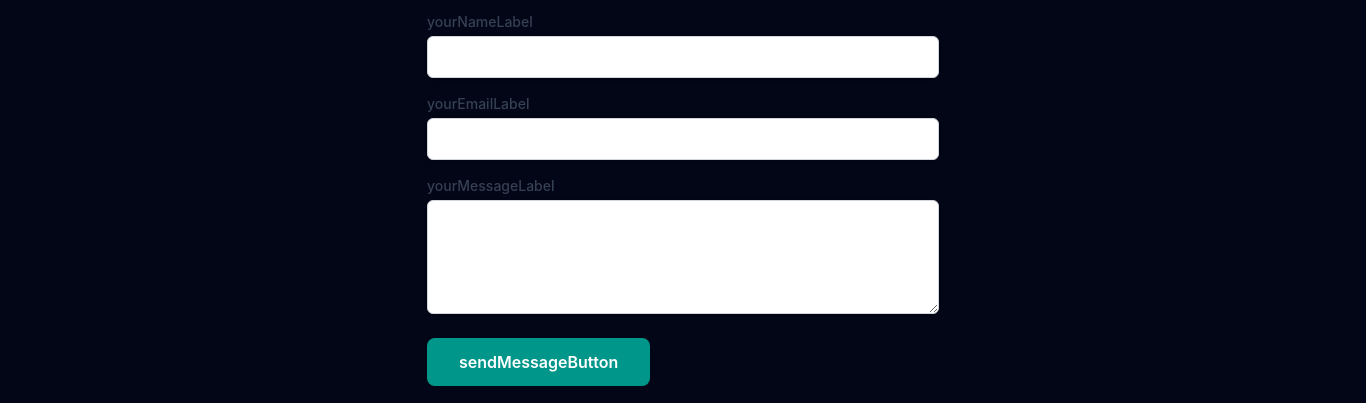
Scenario: ContactForm › handles submission
In the field labelled "yourNameLabel": (683, 57) top-left (427, 36), bottom-right (939, 78), type "Test User"
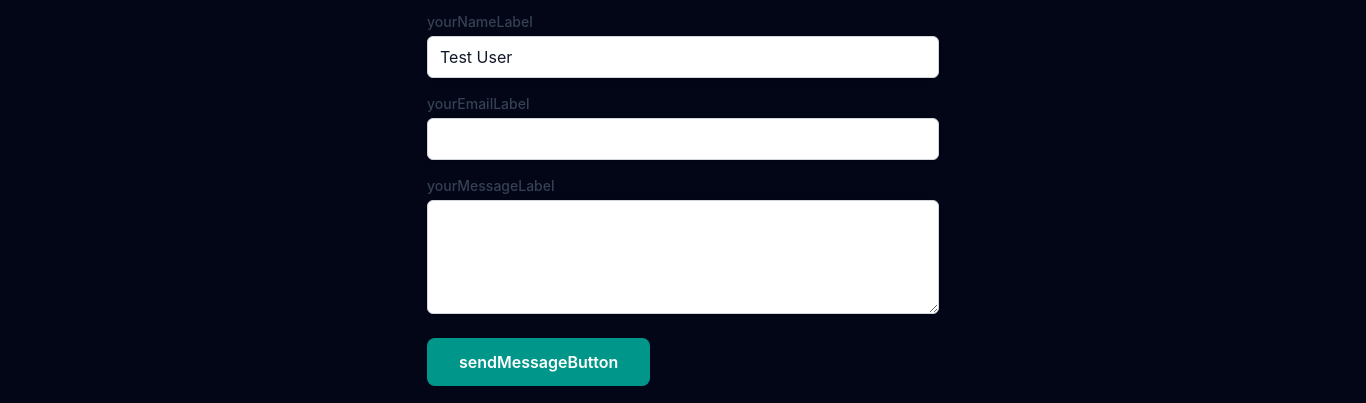
In the field labelled "yourEmailLabel": (683, 139) top-left (427, 118), bottom-right (939, 160), type "test@test.com"
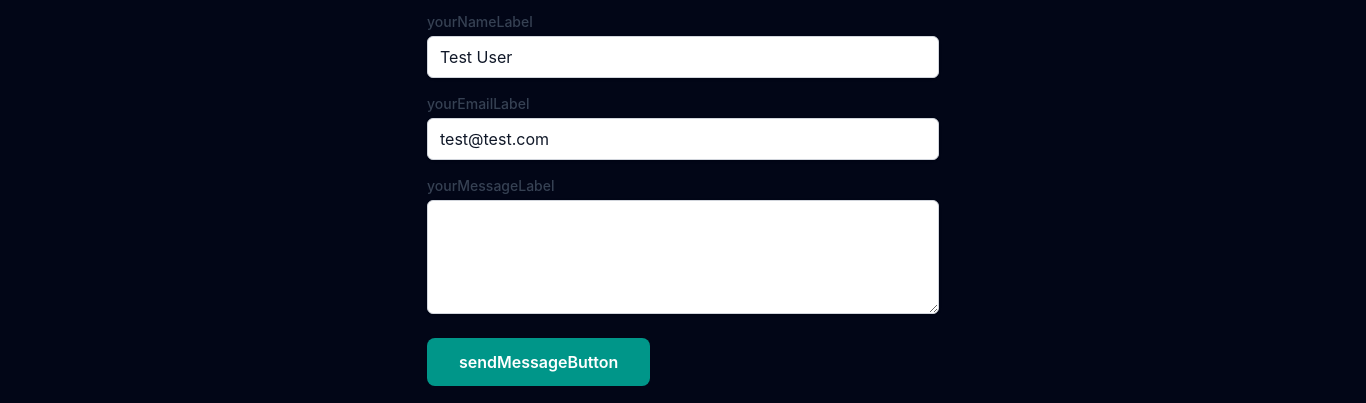
In the text box labelled "yourMessageLabel": (683, 257) top-left (427, 200), bottom-right (939, 314), type "Hello"
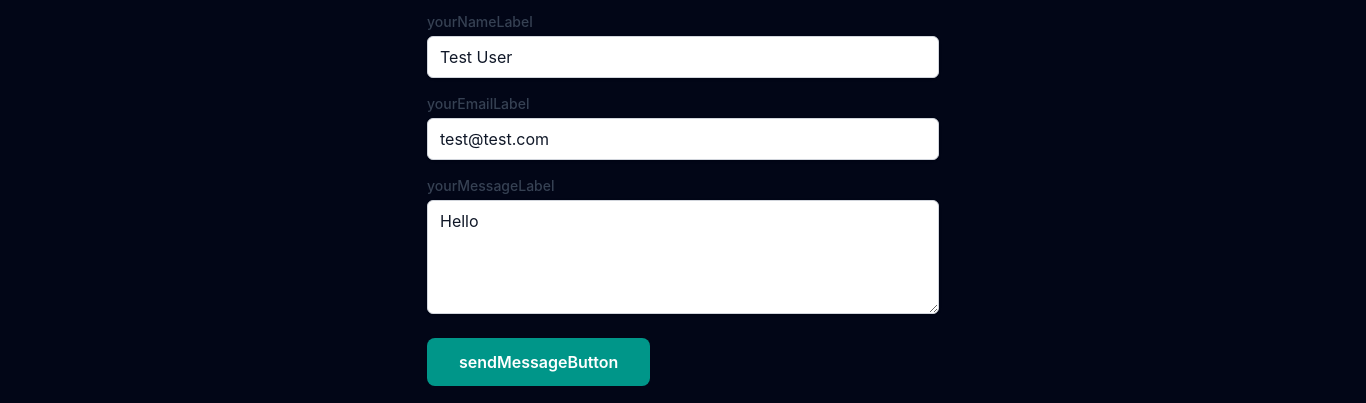
Click the button "sendMessageButton": (539, 362) top-left (427, 338), bottom-right (650, 386)
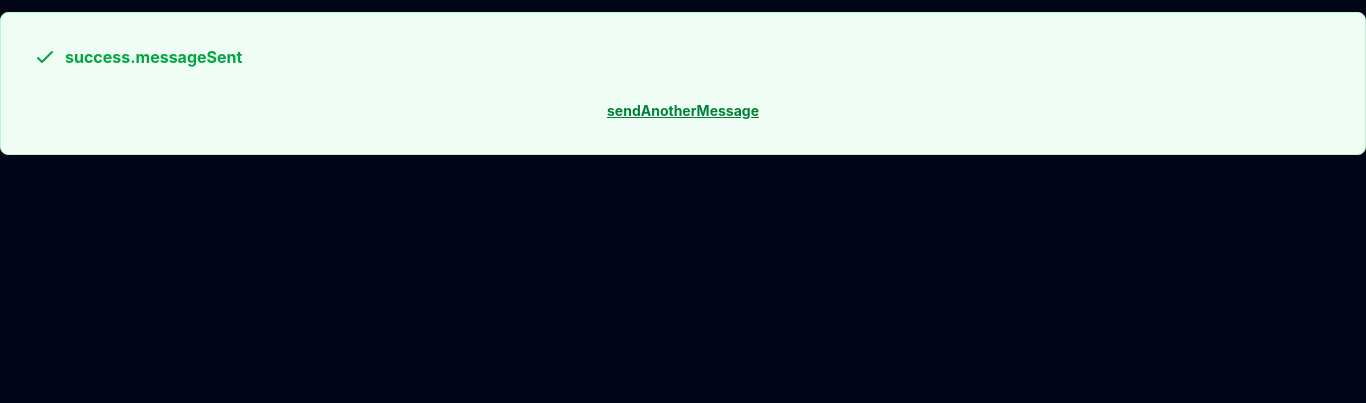
Expected: the text "success.messageSent" is shown, top-left (65, 45), bottom-right (242, 69)
